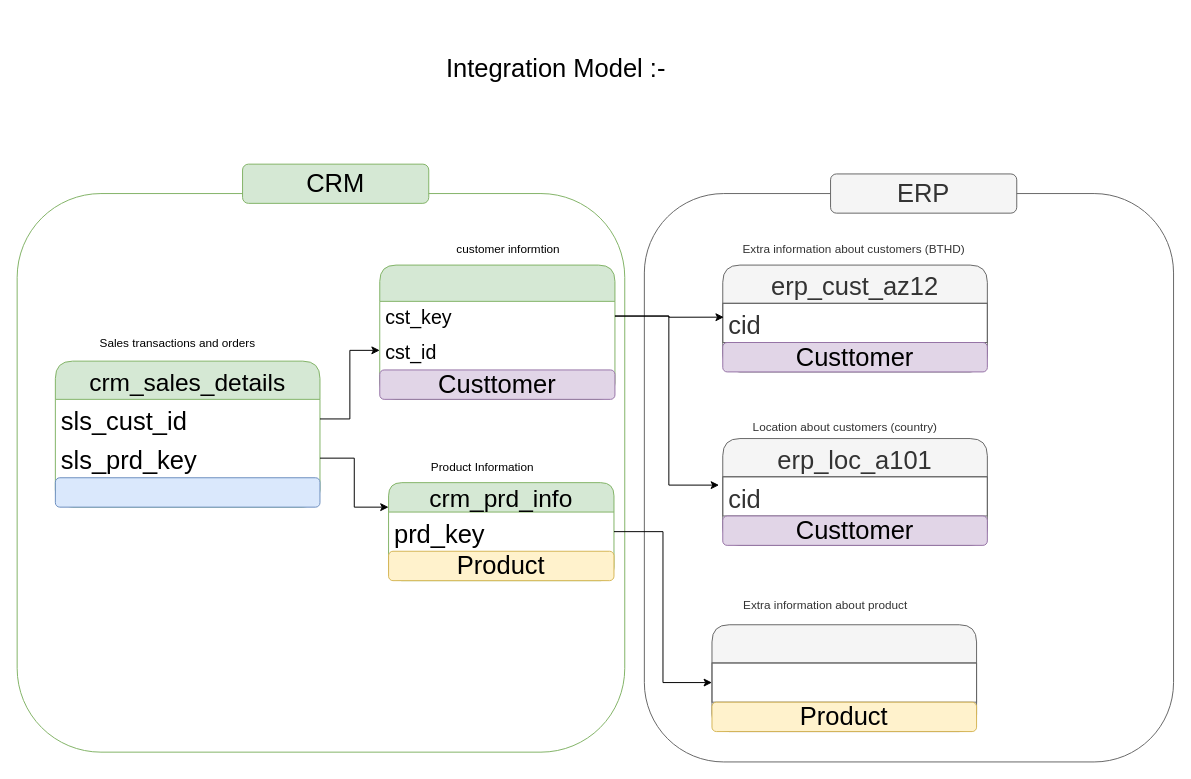
Some shapes in this 1191 by 779 pixel diagram are drawn without their labels. Each missing label, with the box of its shape:
crm_cust_info: (379, 264, 615, 399)
erp_px_cat_g1v2: (711, 624, 977, 732)
id: (711, 662, 977, 702)
Sales: (54, 477, 320, 507)
